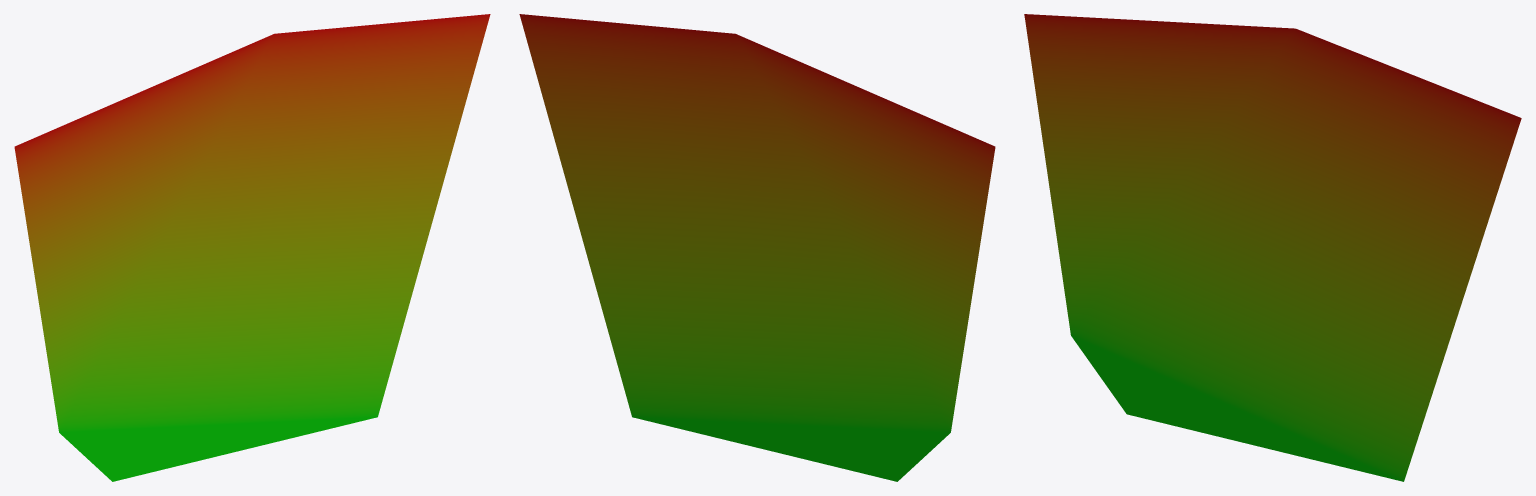
Rendered from Var9_LOD4.fbx.
3 views of the same model, side by side, from view 1: azimuth 30°, elevation 25°; view 2: azimuth 150°, elevation 25°; view 3: azimuth 330°, elevation 25° (orthographic). The views are drawn at different scales.
Parts seen in each view (by area): view 1: _a1d3_Var9_LOD4; view 2: _a1d3_Var9_LOD4; view 3: _a1d3_Var9_LOD4.
Boxes of the visible parts, x1,y1,x2,y2 form: _a1d3_Var9_LOD4: (14,14,490,481); _a1d3_Var9_LOD4: (519,14,995,481); _a1d3_Var9_LOD4: (1024,14,1521,481).
Size of the model in its own units: 23.59 by 19.35 by 9.54e-07.
